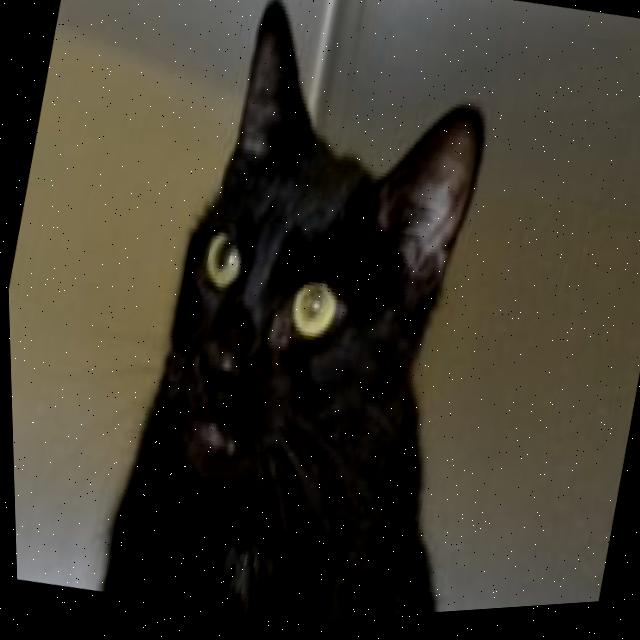Bombay: (82, 0, 564, 636)
